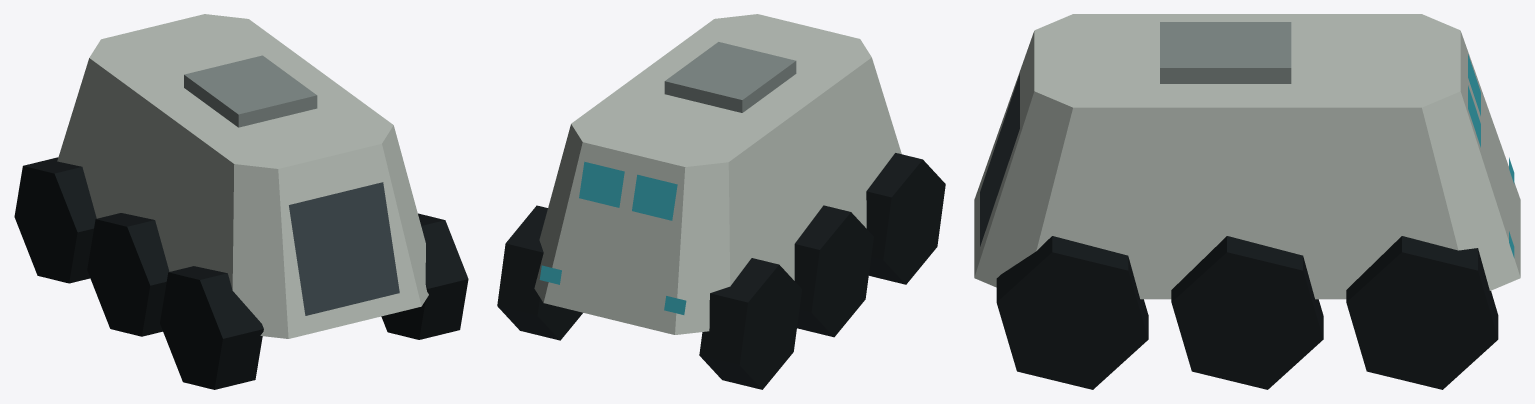
The model's file is wheeled.glb.
The picture shows the model from 3 angles, left to right: view 1: azimuth 30°, elevation 25°; view 2: azimuth 150°, elevation 25°; view 3: azimuth 270°, elevation 25°; orthographic projection. The views are drawn at different scales.
Visible parts, largest first — view 1: vehicle, wheel--1--8, wheel--1-8, wheel--1-0, wheel-1--8; view 2: vehicle, wheel--1-8, wheel--1-0, wheel--1--8, wheel-1-8; view 3: vehicle, wheel-1--8, wheel-1-8, wheel-1-0.
Boxes of the visible parts, bbox=[...] form: vehicle: bbox=[57, 14, 428, 338]; wheel--1--8: bbox=[160, 266, 263, 389]; wheel--1-8: bbox=[14, 157, 96, 283]; wheel--1-0: bbox=[87, 213, 169, 336]; wheel-1--8: bbox=[381, 213, 468, 339]; vehicle: bbox=[534, 14, 901, 334]; wheel--1-8: bbox=[699, 258, 801, 389]; wheel--1-0: bbox=[794, 205, 873, 337]; wheel--1--8: bbox=[866, 153, 945, 284]; wheel-1-8: bbox=[497, 205, 582, 340]; vehicle: bbox=[974, 14, 1520, 299]; wheel-1--8: bbox=[996, 236, 1148, 389]; wheel-1-8: bbox=[1346, 236, 1498, 389]; wheel-1-0: bbox=[1171, 236, 1323, 389].
Bounding box in the file's own units: 4.81 × 4.25 × 7.71.
